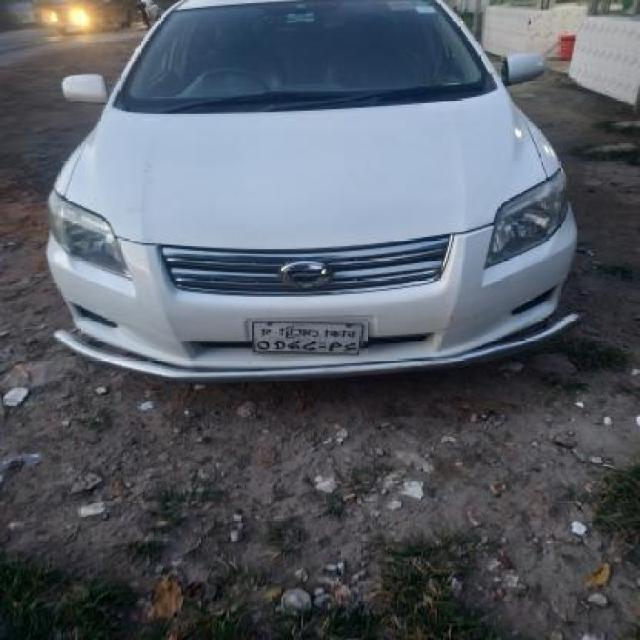numberplate: (252, 318, 368, 356)
